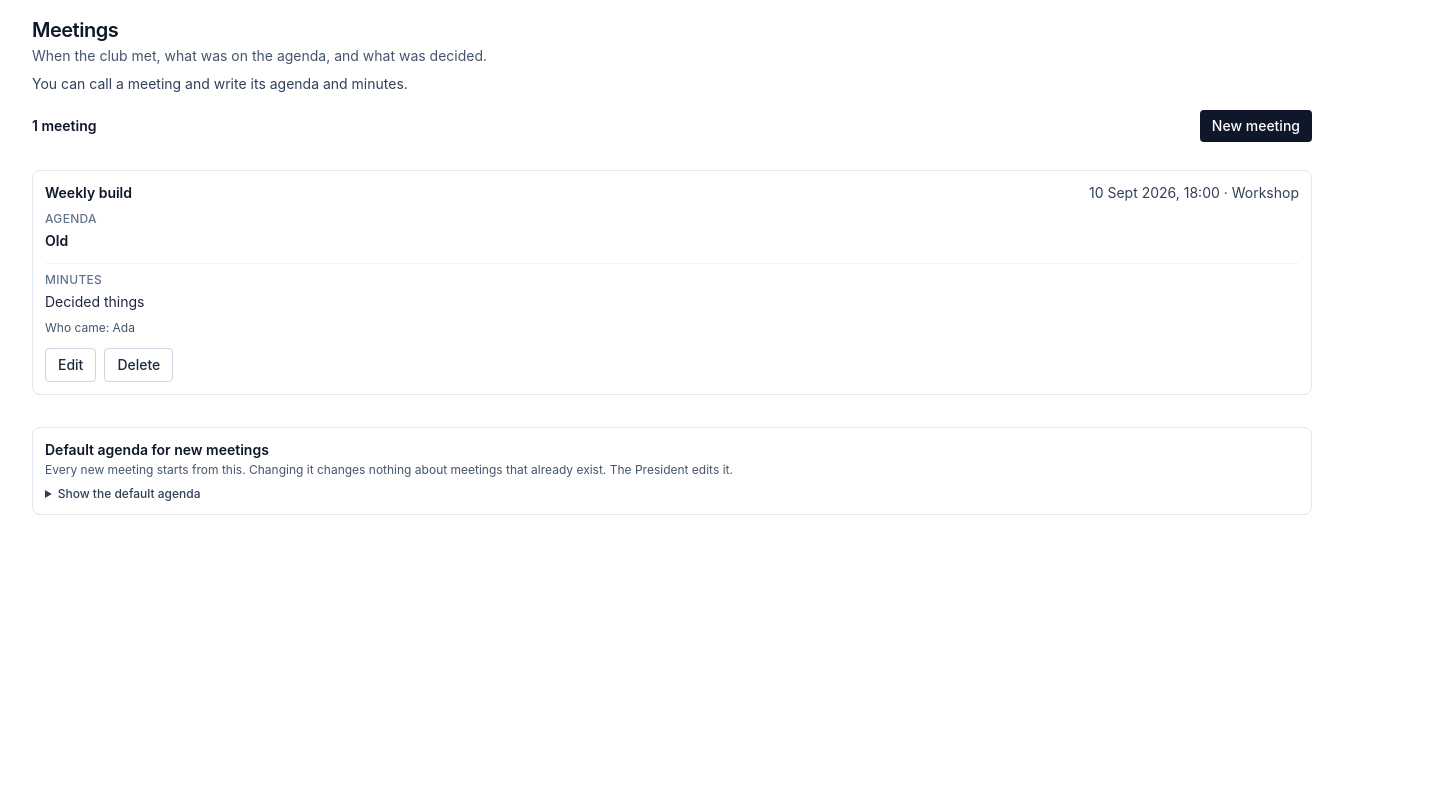
it: calling and editing a meeting › edits an existing meeting with its own values, and deletes only after confirming
This screenshot has width=1440, height=810.
Click the button with aria-label "Edit Weekly build" at (71, 365), box [45,348,96,382]
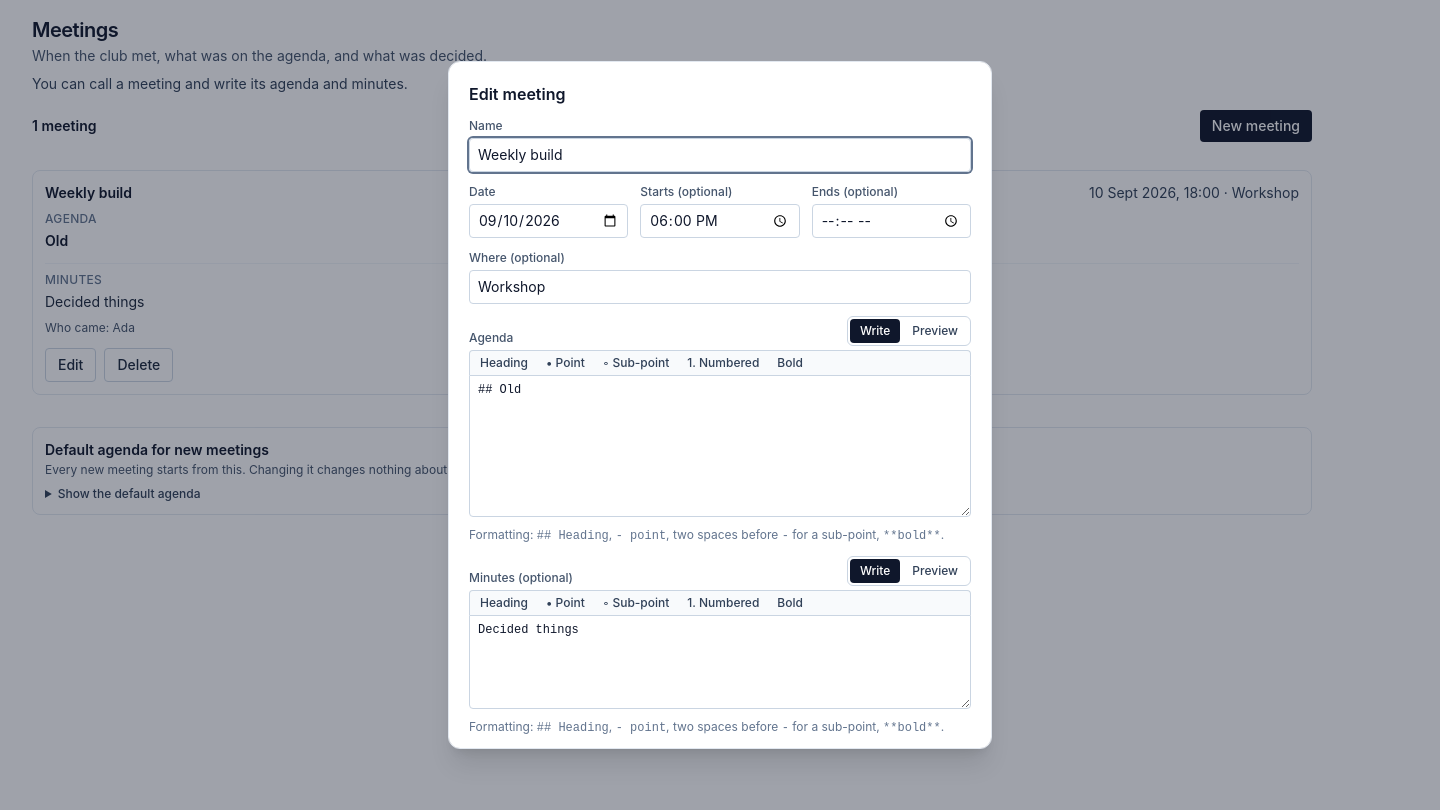
Expected: the field labelled "Name" holds "Weekly build", [469,138,971,172]
Expected: the time field labelled "Starts (optional)" holds "18:00", [640,204,800,238]
Expected: the text box labelled "Minutes (optional)" holds "Decided things", [469,615,971,709]
Clear the field labelled "Where (optional)" at (720, 287), box [469,270,971,304]
(page scrolled)
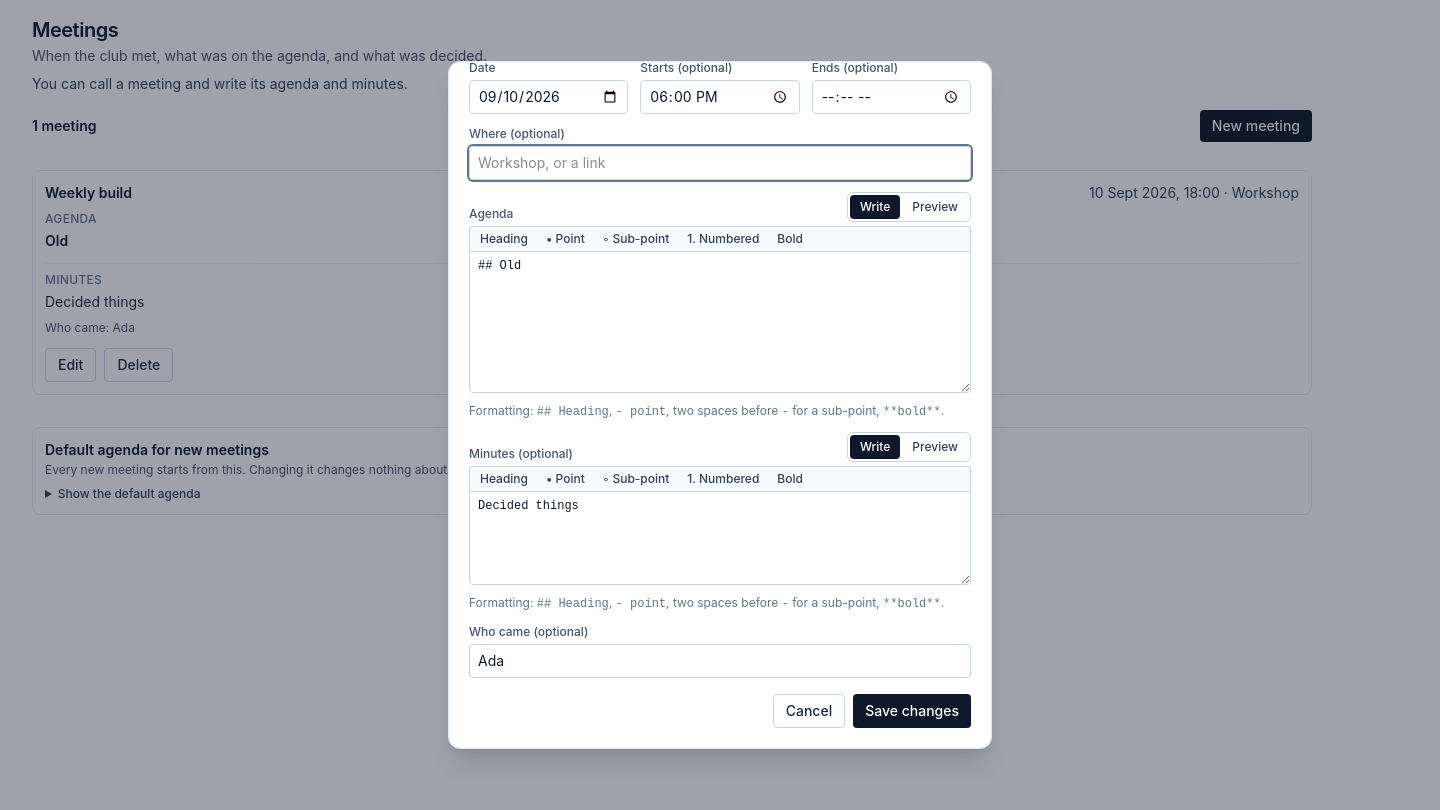
Click the button "Save changes" at (912, 711), box [853,694,971,728]
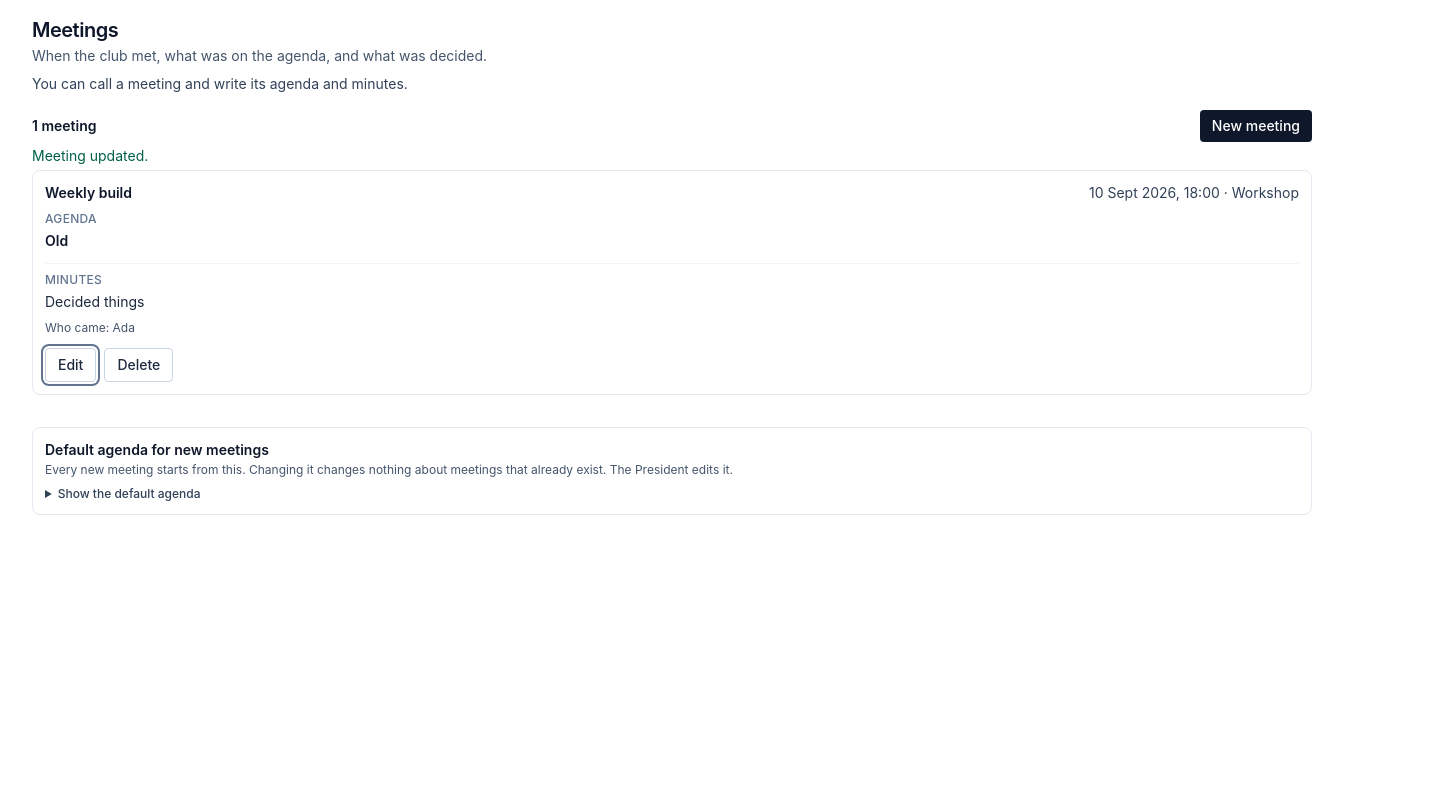
Click the button with aria-label "Delete Weekly build" at (139, 365), box [104,348,173,382]
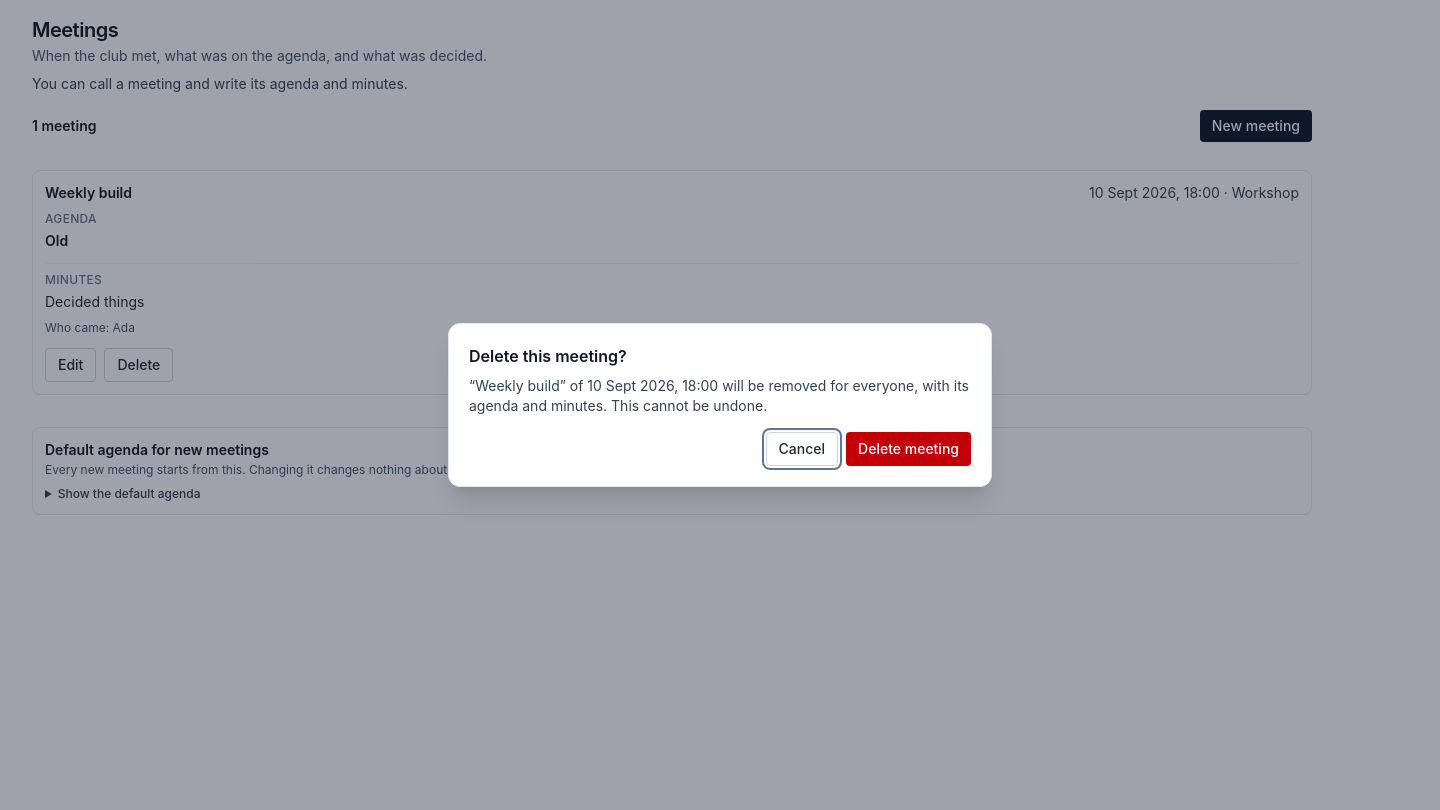
Click the button "Delete meeting" at (909, 449), box [846,432,971,466]
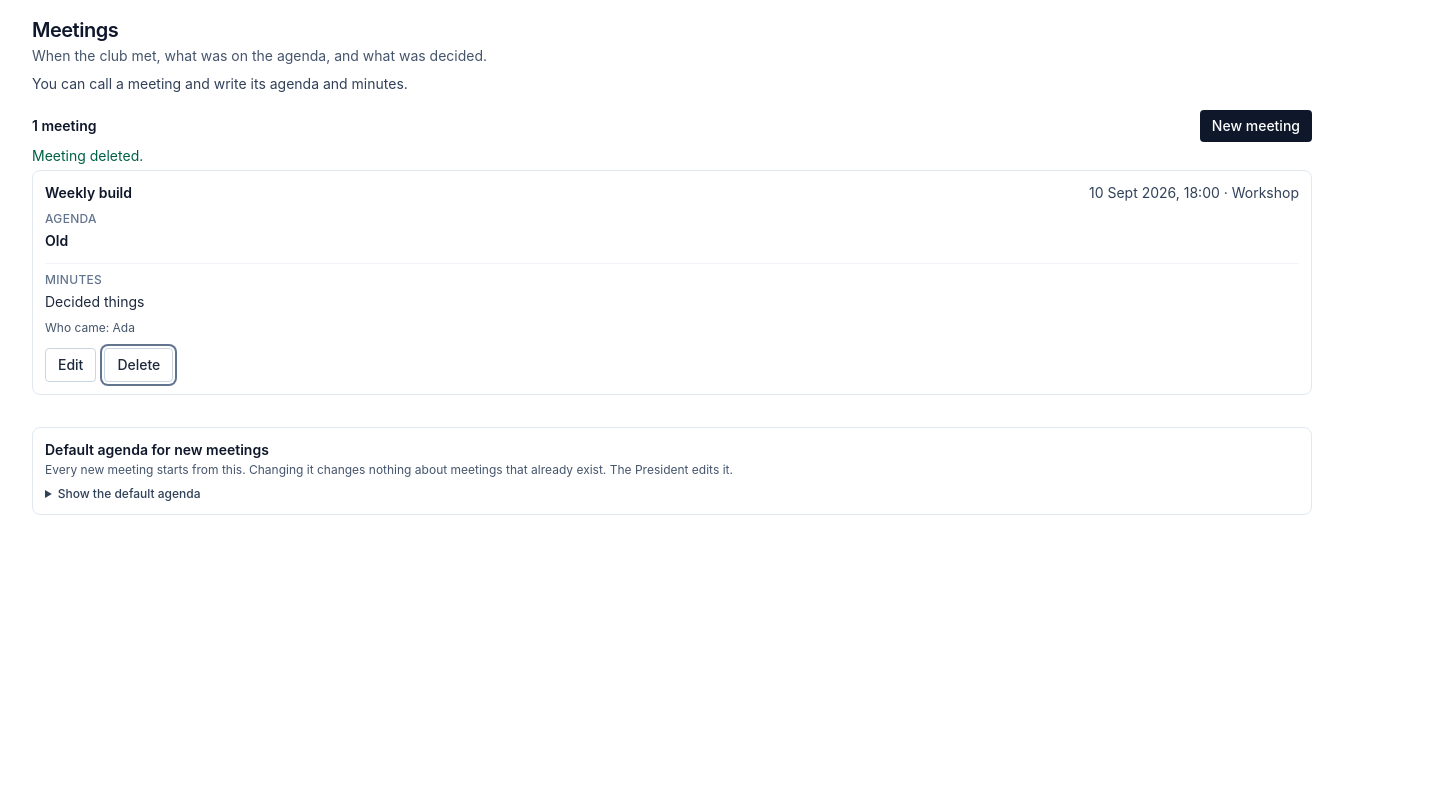
Expected: the text "Meeting deleted." is shown, [32,147,143,164]
